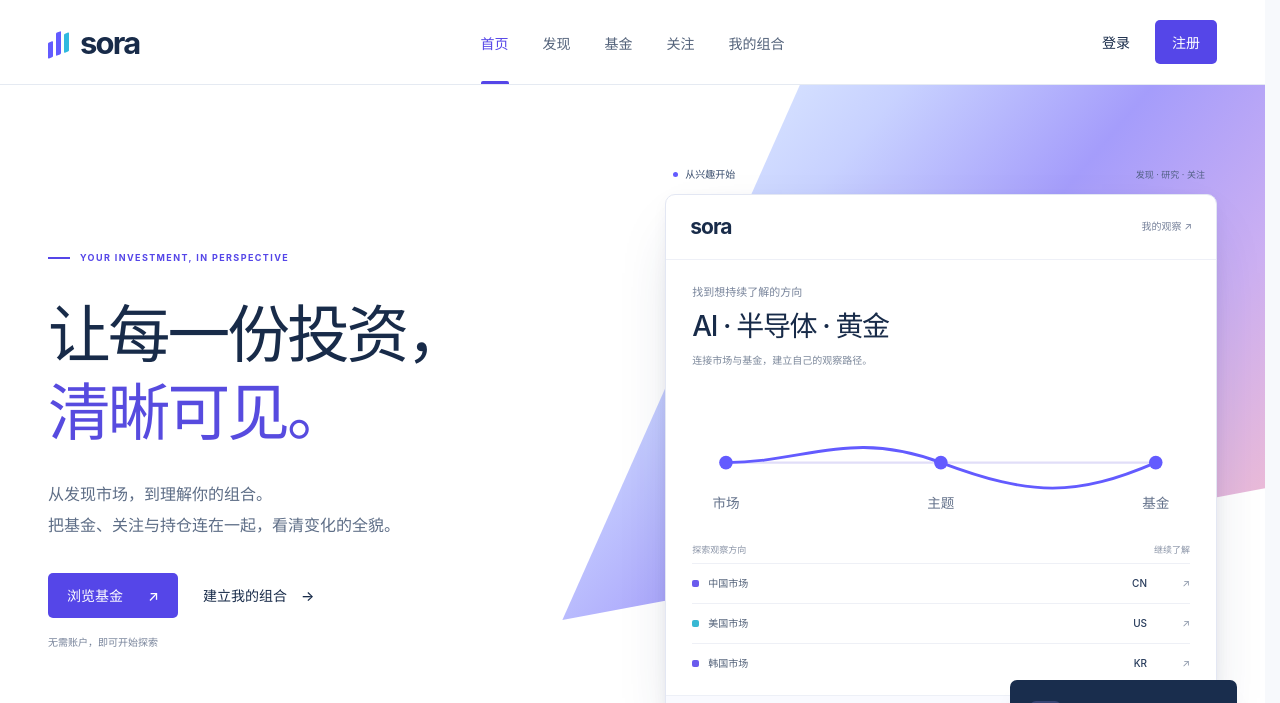
M0 routes › navigates from Welcome to the fund library
Click the link "浏览基金 ↗" at (113, 595), box x1=48 y1=573 x2=178 y2=618
(page scrolled)
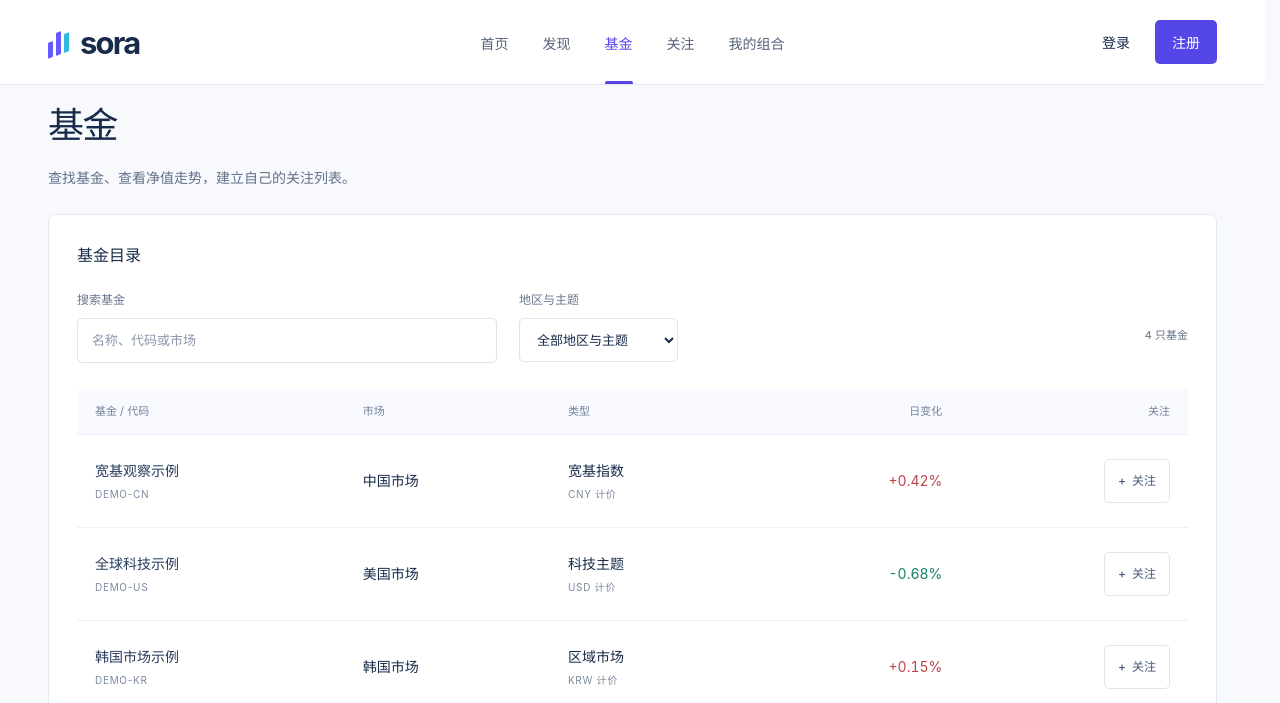
Expected: the heading "基金" is shown, x1=48 y1=103 x2=117 y2=147
